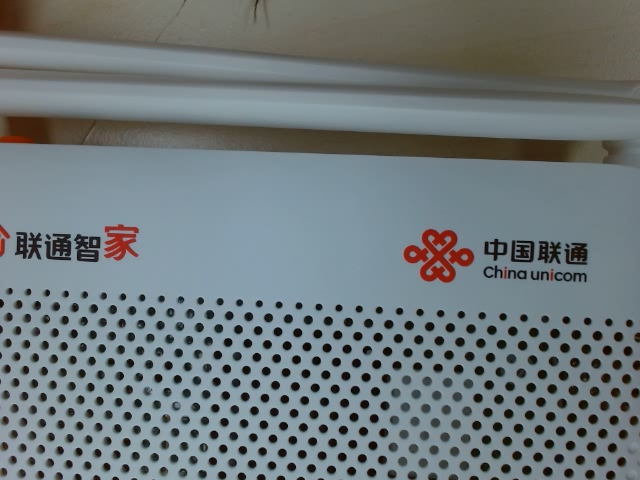AD_ChinaUnicom: (384, 201, 599, 299)
